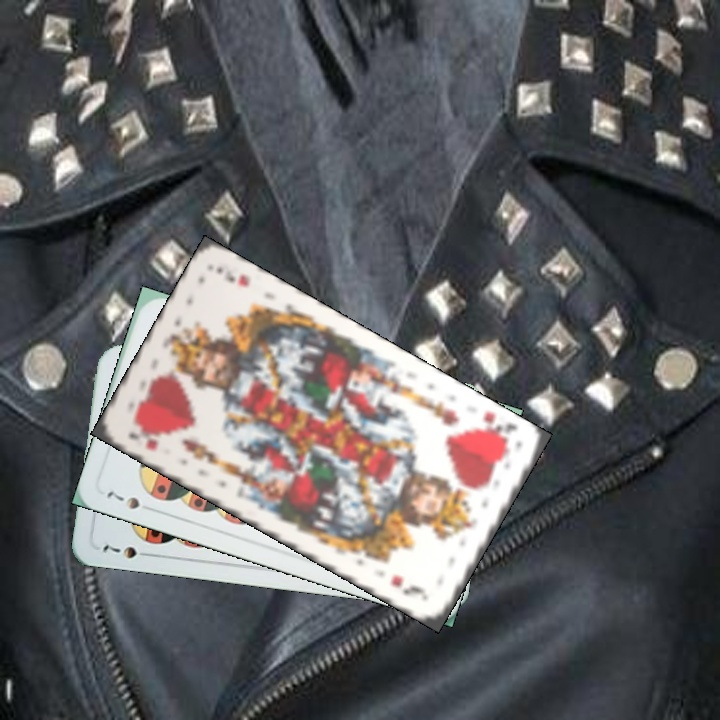HK: (469, 407, 521, 448), (124, 417, 162, 453)
S7: (99, 540, 155, 562), (102, 487, 143, 512)
